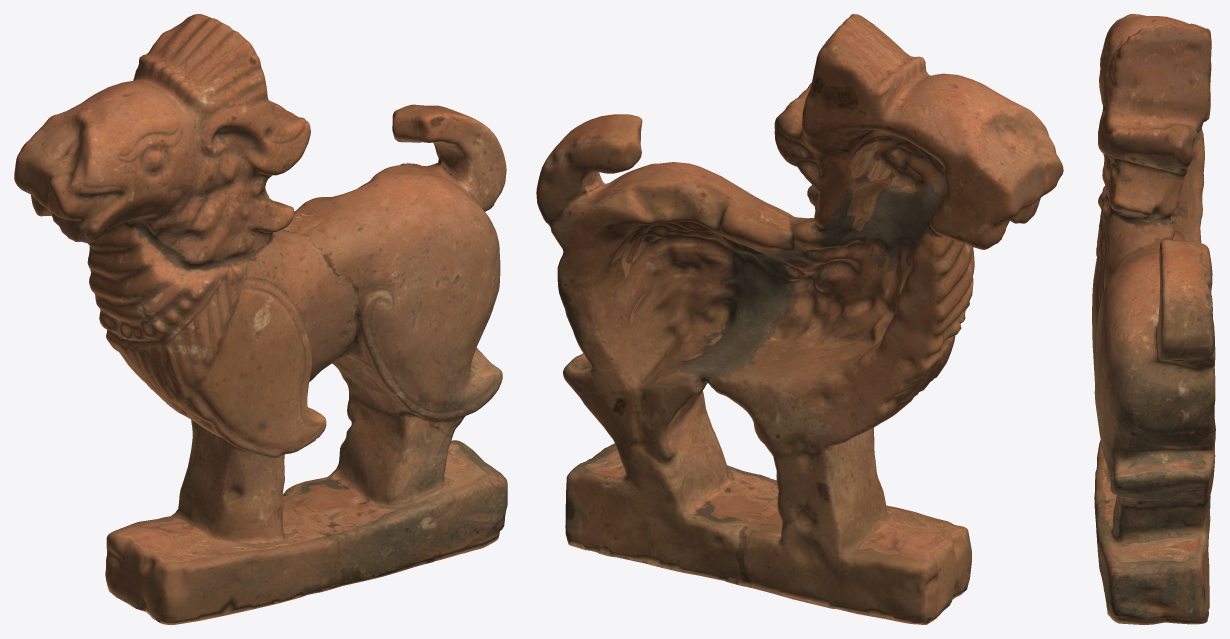
Rendered from MysonMuseum_gajasimha_final.glb.
The picture shows the model from 3 angles, left to right: view 1: azimuth 30°, elevation 25°; view 2: azimuth 150°, elevation 25°; view 3: azimuth 270°, elevation 25°; orthographic projection. The views are drawn at different scales.
Size of the model in its own units: 0.4351 by 0.4912 by 0.1124.
1 material, 1 textured.
